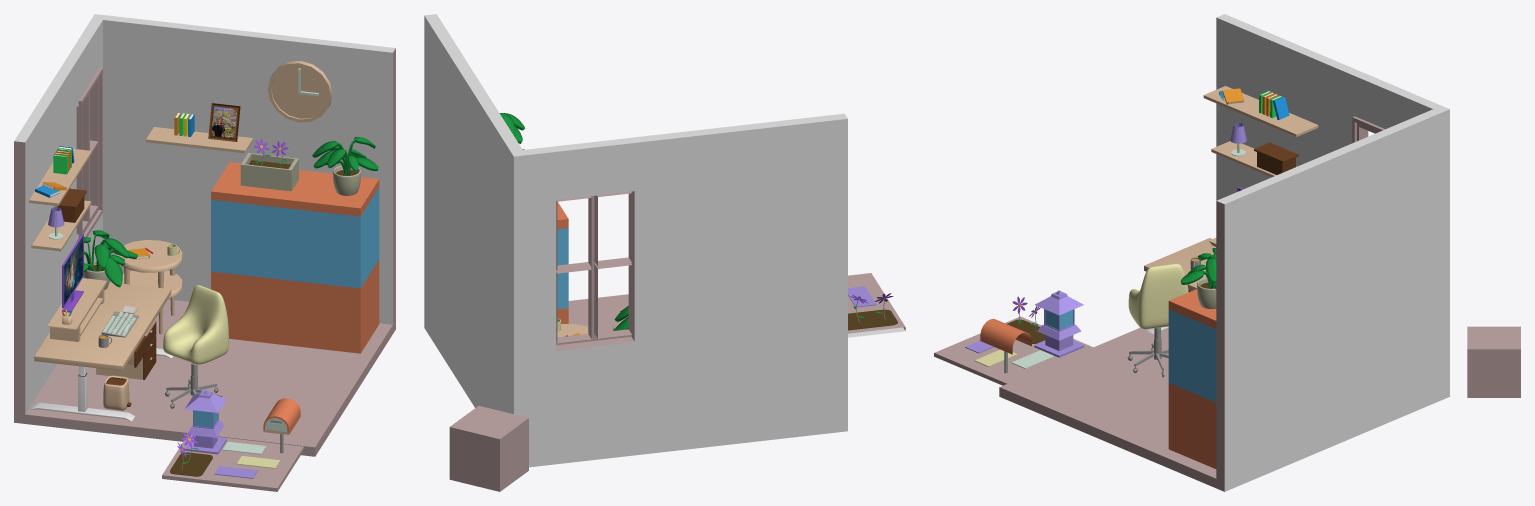
Rendered from Final-Room.glb.
The picture shows the model from 3 angles, left to right: view 1: azimuth 30°, elevation 25°; view 2: azimuth 150°, elevation 25°; view 3: azimuth 270°, elevation 25°; orthographic projection. The views are drawn at different scales.
Visible parts, largest first — view 1: Body, Aquarium, Desks, Shelves, Table stuff, Chair, Mini Floor, Clock, Floor items, Lamp, Computer, Mailbox (+1 smaller); view 2: Body, Cube, Aquarium, Mini Floor, Dirt; view 3: Body, Aquarium, Shelves, Cube, Mini Floor, Chair, Lamp, Mailbox, Desks.
Part boxes in pixels (left/top/right/bottom): Body: left=14, top=14, right=395, bottom=456; Aquarium: left=211, top=137, right=379, bottom=353; Desks: left=30, top=240, right=182, bottom=421; Shelves: left=29, top=103, right=252, bottom=251; Table stuff: left=47, top=230, right=179, bottom=347; Chair: left=163, top=285, right=228, bottom=364; Mini Floor: left=162, top=435, right=303, bottom=491; Clock: left=267, top=61, right=332, bottom=122; Floor items: left=96, top=319, right=222, bottom=410; Lamp: left=185, top=390, right=226, bottom=454; Computer: left=62, top=234, right=83, bottom=312; Mailbox: left=263, top=398, right=300, bottom=453; Body: left=424, top=14, right=847, bottom=467; Cube: left=449, top=406, right=528, bottom=491; Aquarium: left=499, top=113, right=568, bottom=323; Mini Floor: left=848, top=273, right=905, bottom=337; Dirt: left=848, top=309, right=897, bottom=330; Body: left=999, top=14, right=1449, bottom=491; Aquarium: left=1168, top=248, right=1216, bottom=468; Shelves: left=1203, top=86, right=1318, bottom=177; Cube: left=1467, top=326, right=1520, bottom=397; Mini Floor: left=934, top=316, right=1093, bottom=385; Chair: left=1128, top=263, right=1188, bottom=329; Lamp: left=1034, top=290, right=1084, bottom=357; Mailbox: left=980, top=318, right=1031, bottom=373; Desks: left=1144, top=238, right=1215, bottom=333.
Size of the model in its own units: 16.82 by 11.85 by 21.91.
Materials: 27 (2 with a texture image).
